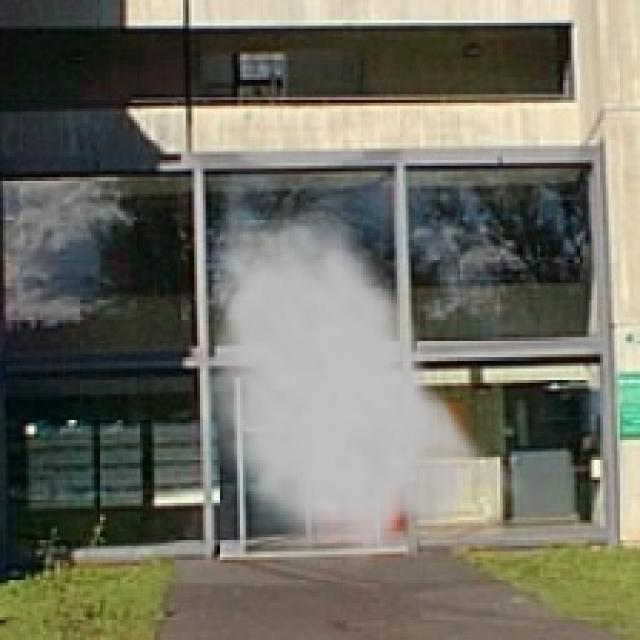smoke: (192, 180, 534, 577)
